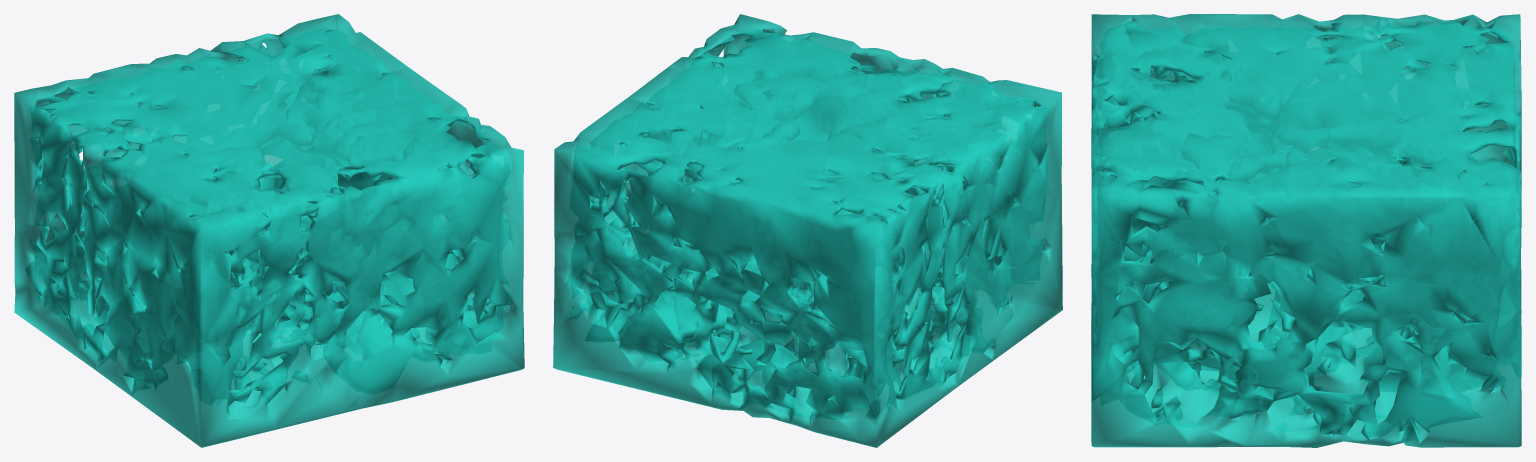
3 renders of one model, left to right at view 1: azimuth 30°, elevation 25°; view 2: azimuth 150°, elevation 25°; view 3: azimuth 270°, elevation 25°, orthographic. The views are drawn at different scales.
Parts seen in each view (by area): view 1: Liquid_Domain; view 2: Liquid_Domain; view 3: Liquid_Domain.
Boxes of the visible parts, x1,y1,x2,y2 form: Liquid_Domain: (14,14,524,447); Liquid_Domain: (553,14,1062,447); Liquid_Domain: (1091,14,1521,447).
Size of the model in its own units: 391 by 254 by 391.
